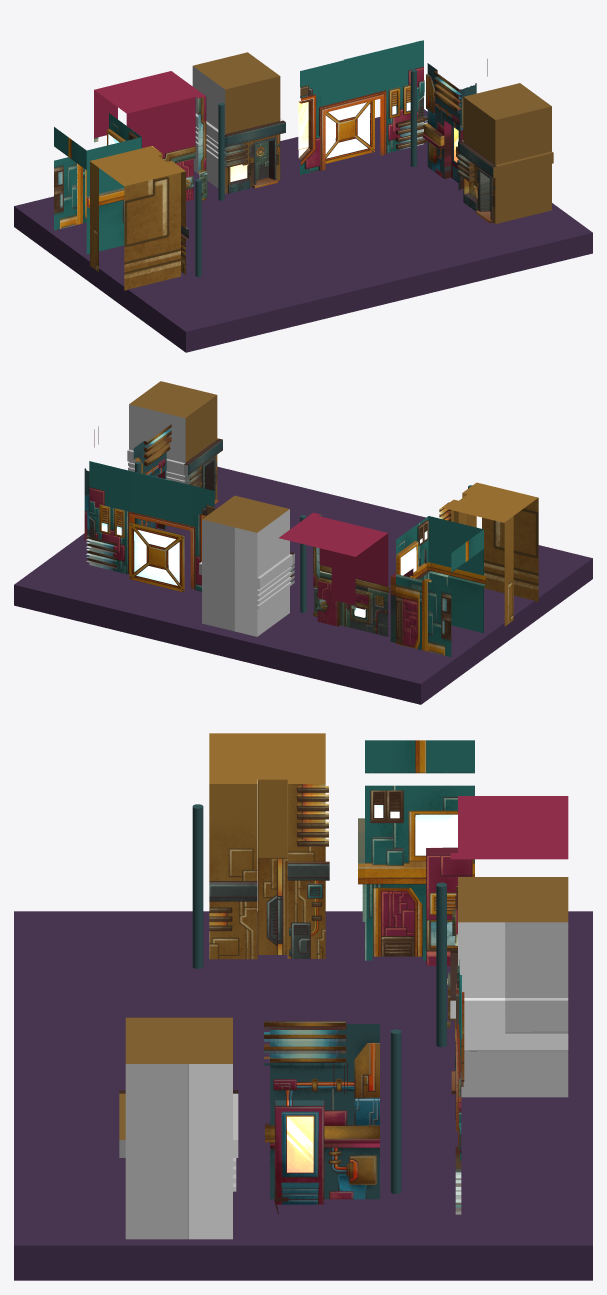
File: Hacker Map 3.fbx
3 views of the same model, one above another, from view 1: azimuth 30°, elevation 25°; view 2: azimuth 150°, elevation 25°; view 3: azimuth 270°, elevation 25° (orthographic). The views are drawn at different scales.
Visible parts, largest first — view 1: Floor.001, R1, F1, F2, L1, F3, L2, R2, F1.002, Tiang (×2), Tiang .001, F1.001; view 2: Floor.001, F2, L2, F1, F3, L1, R1, R2, F1.002, Tiang; view 3: Floor.001, L1, R1, F2, R2, L2, F3, Tiang (×2), Tiang .001, F1, L2.001, R2.001.
Boxes of the visible parts, x1,y1,x2,y2 form: Floor.001: [14, 109, 592, 352]; R1: [457, 83, 553, 223]; F1: [298, 40, 427, 174]; F2: [192, 52, 285, 193]; L1: [90, 146, 188, 290]; F3: [94, 71, 207, 201]; L2: [54, 113, 141, 254]; R2: [422, 59, 487, 190]; F1.002: [325, 102, 370, 158]; Tiang (×2): [195, 103, 224, 276]; Tiang .001: [410, 69, 416, 166]; F1.001: [298, 102, 308, 157]; Floor.001: [14, 466, 592, 704]; F2: [199, 495, 294, 636]; L2: [390, 516, 485, 656]; F1: [86, 461, 214, 592]; F3: [279, 512, 389, 636]; L1: [439, 482, 538, 626]; R1: [127, 381, 222, 503]; R2: [84, 424, 171, 541]; F1.002: [134, 530, 179, 585]; Tiang: [300, 515, 306, 612]; Floor.001: [14, 911, 592, 1280]; L1: [209, 733, 329, 959]; R1: [119, 1017, 238, 1239]; F2: [448, 877, 568, 1097]; R2: [264, 1021, 379, 1214]; L2: [358, 740, 474, 965]; F3: [447, 796, 568, 1027]; Tiang (×2): [192, 804, 446, 1047]; Tiang .001: [390, 1029, 401, 1193]; F1: [455, 959, 464, 1214]; L2.001: [415, 814, 457, 855]; R2.001: [287, 1116, 313, 1172].
Size of the model in its own units: 4137 by 1201 by 3000.
